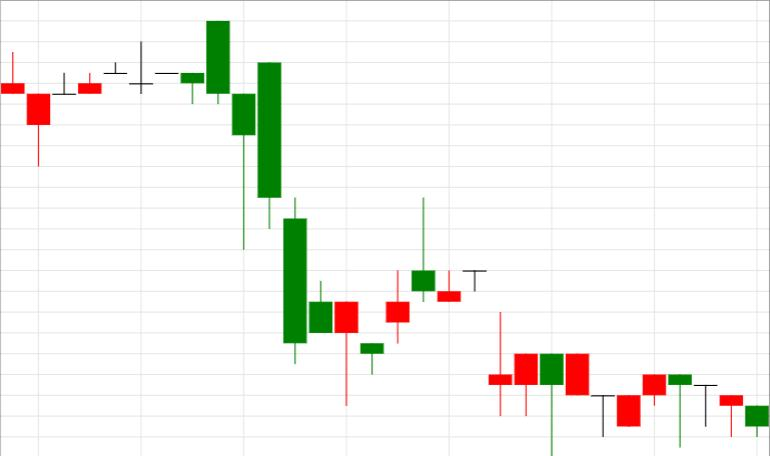hammer_rise: (206, 21, 359, 406)
